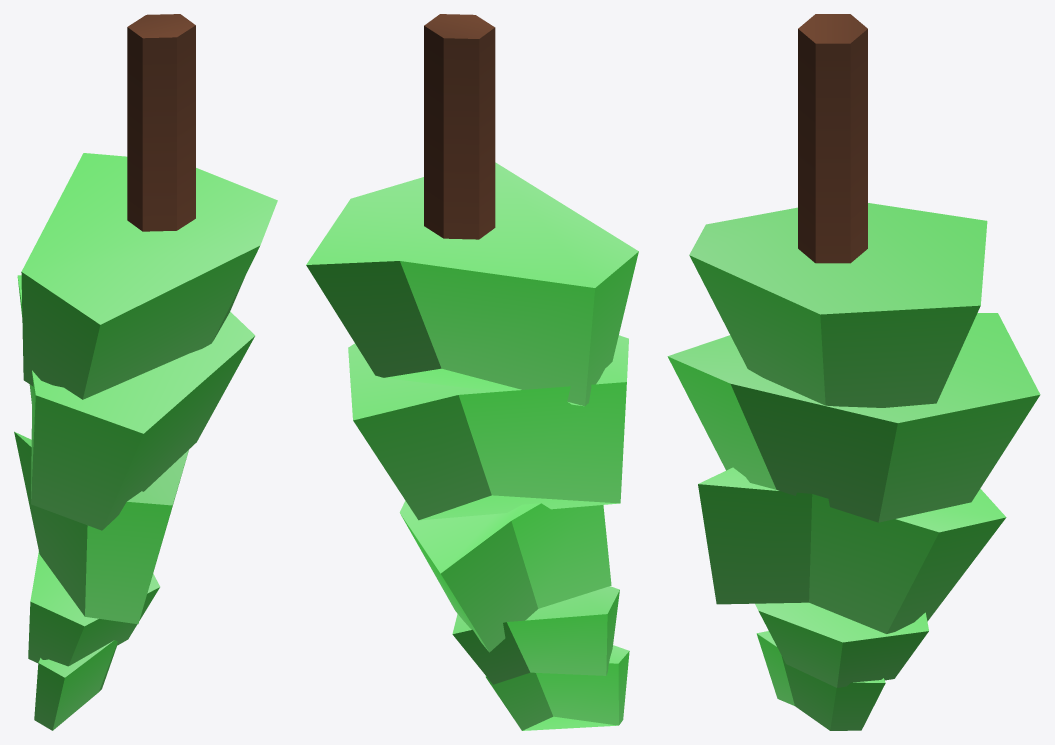
Rendered from tree1.fbx.
3 renders of one model, left to right at view 1: azimuth 30°, elevation 25°; view 2: azimuth 150°, elevation 25°; view 3: azimuth 270°, elevation 25°, orthographic. The views are drawn at different scales.
Visible parts, largest first — view 1: Tree 03; view 2: Tree 03; view 3: Tree 03.
Part boxes in pixels (<box>): Tree 03: <box>14,14,277,730</box>; Tree 03: <box>306,14,638,730</box>; Tree 03: <box>667,14,1040,730</box>.
Size of the model in its own units: 2327 by 5721 by 2599.
